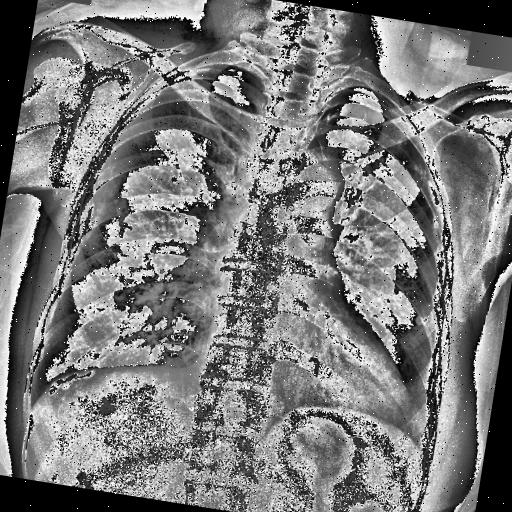0- Aortic enlargement: (277, 148, 348, 238), (280, 147, 347, 231), (277, 143, 346, 217)
11- Pleural thickening: (384, 158, 474, 335), (386, 160, 466, 336), (68, 186, 134, 276), (64, 188, 134, 270), (399, 158, 452, 240), (109, 250, 169, 320), (57, 192, 101, 280), (110, 255, 166, 319), (44, 357, 98, 404), (46, 358, 96, 402)
13- Pulmonary fibrosis: (108, 197, 136, 236), (414, 314, 430, 328)
2- Calcification: (399, 158, 452, 240), (57, 192, 101, 280), (47, 358, 98, 402)
3- Cardiomegaly: (190, 318, 417, 428), (188, 338, 416, 444)
7- Lung Opacity: (109, 250, 169, 320)
8- Nodule-Mass: (107, 284, 145, 314)
